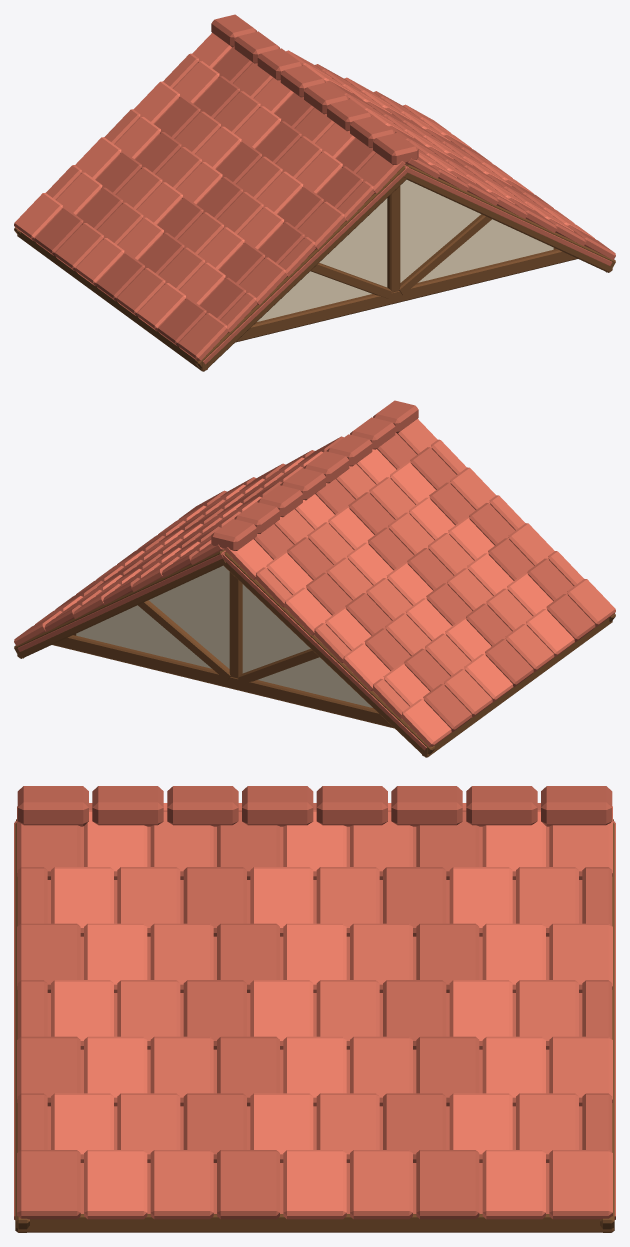
Rendered from roof_gable_4x3.glb.
3 views of the same model, one above another, from view 1: azimuth 30°, elevation 25°; view 2: azimuth 150°, elevation 25°; view 3: azimuth 270°, elevation 25° (orthographic). The views are drawn at different scales.
Visible parts, largest first — view 1: roof_gable_4x3; view 2: roof_gable_4x3; view 3: roof_gable_4x3.
Boxes of the visible parts, x1,y1,x2,y2 form: roof_gable_4x3: (14, 14, 615, 371); roof_gable_4x3: (14, 400, 615, 757); roof_gable_4x3: (14, 786, 615, 1232).
Bounding box in the file's own units: 4.68 × 1.83 × 3.58.
